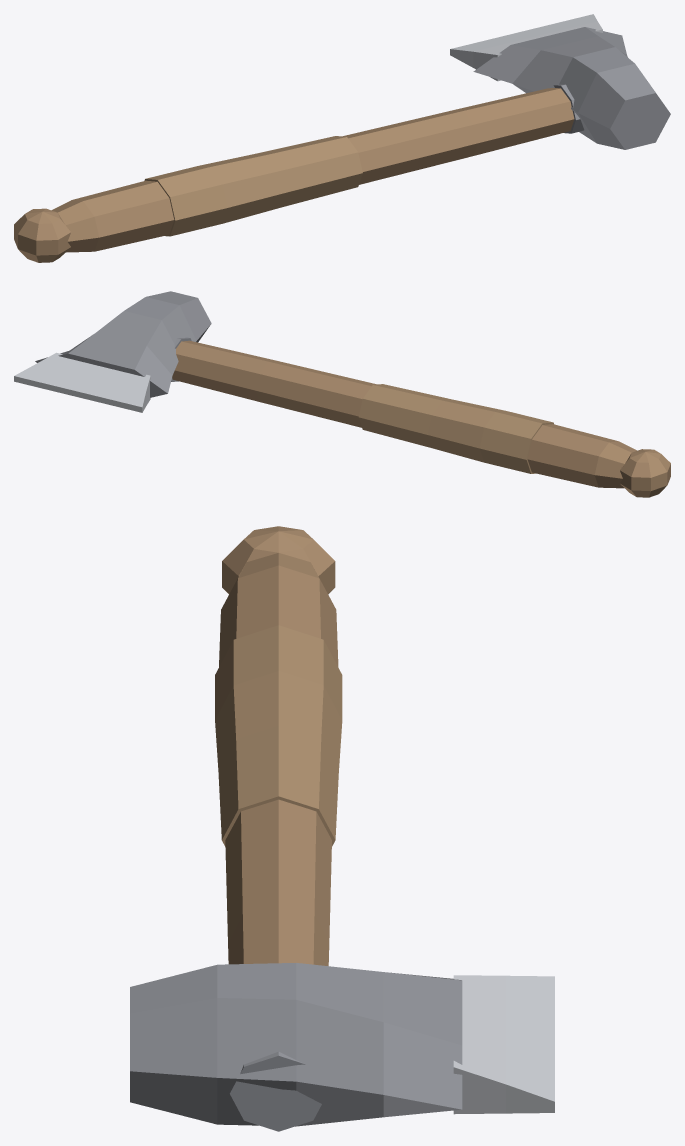
Rendered from 16-Crafting_hacha_hierro.glb.
3 renders of one model, top to bottom at view 1: azimuth 30°, elevation 25°; view 2: azimuth 150°, elevation 25°; view 3: azimuth 270°, elevation 25°, orthographic. The views are drawn at different scales.
Visible parts, largest first — view 1: SM_HachaHierro_Mango, SM_HachaHierro_Cabeza, SM_HachaHierro_Grip, SM_HachaHierro_Pomo, SM_HachaHierro_FiloAcero; view 2: SM_HachaHierro_Mango, SM_HachaHierro_Grip, SM_HachaHierro_Cabeza, SM_HachaHierro_FiloAcero, SM_HachaHierro_Pomo; view 3: SM_HachaHierro_Cabeza, SM_HachaHierro_Mango, SM_HachaHierro_Grip, SM_HachaHierro_FiloAcero, SM_HachaHierro_Casquillo, SM_HachaHierro_Pomo.
Part boxes in pixels (bbox=[...]): SM_HachaHierro_Mango: bbox=[51, 88, 574, 252]; SM_HachaHierro_Cabeza: bbox=[473, 27, 670, 149]; SM_HachaHierro_Grip: bbox=[144, 136, 362, 236]; SM_HachaHierro_Pomo: bbox=[14, 208, 70, 262]; SM_HachaHierro_FiloAcero: bbox=[450, 14, 602, 81]; SM_HachaHierro_Mango: bbox=[172, 340, 636, 488]; SM_HachaHierro_Grip: bbox=[358, 384, 553, 473]; SM_HachaHierro_Cabeza: bbox=[35, 291, 211, 397]; SM_HachaHierro_FiloAcero: bbox=[14, 352, 150, 412]; SM_HachaHierro_Pomo: bbox=[620, 449, 670, 497]; SM_HachaHierro_Cabeza: bbox=[130, 963, 462, 1126]; SM_HachaHierro_Mango: bbox=[219, 553, 338, 966]; SM_HachaHierro_Grip: bbox=[215, 625, 342, 846]; SM_HachaHierro_FiloAcero: bbox=[453, 975, 554, 1114]; SM_HachaHierro_Casquillo: bbox=[229, 1051, 321, 1131]; SM_HachaHierro_Pomo: bbox=[222, 526, 335, 594].
Bounding box in the file's own units: 0.7751 × 0.0814 × 0.243.
